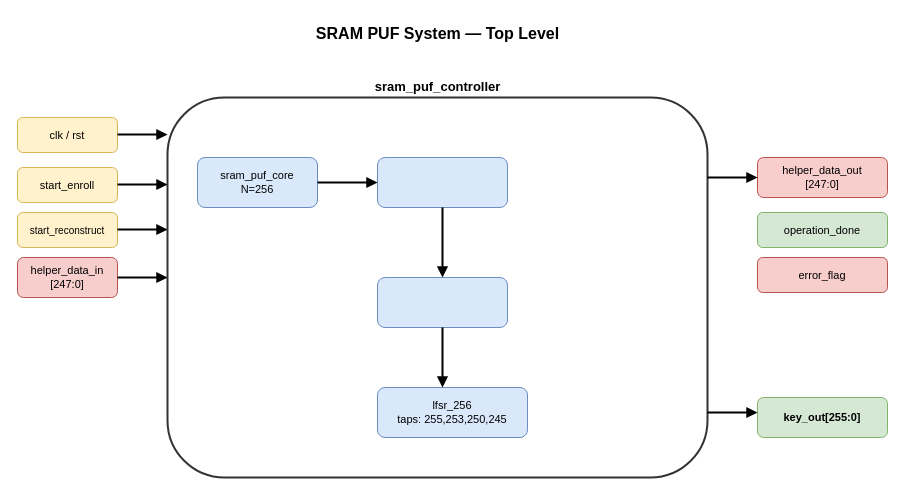
This 905x495 diagram has some shape labels left out. The shapes that lost their labels are listed below. From the top down, each one's centre as x and y in pixels, then its label:
At point (442, 182): "fuzzy_extractor BCH(31,16,3)".
At point (442, 302): "key_gen SHA-256".
